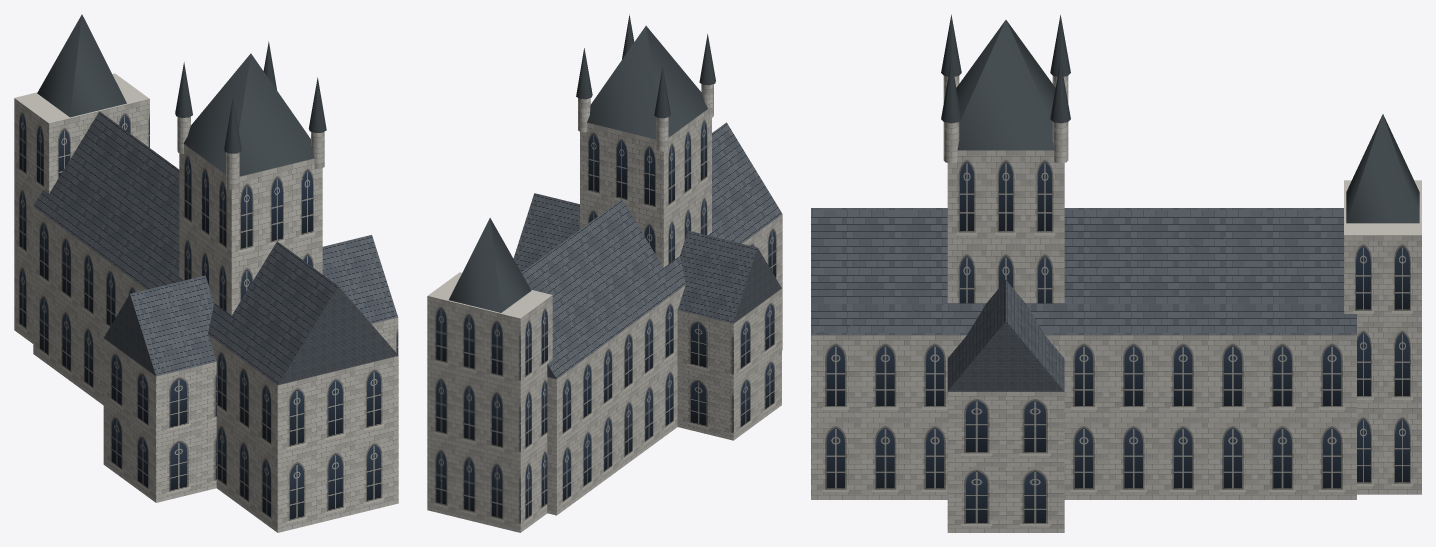
Rendered from niklaas.obj.
3 views of the same model, side by side, from view 1: azimuth 30°, elevation 25°; view 2: azimuth 150°, elevation 25°; view 3: azimuth 270°, elevation 25° (orthographic). The views are drawn at different scales.
Parts seen in each view (by area): view 1: part1, part2, part5, part3, part4, part15, part14, part16, part7, part9, part13, part8 (+1 smaller); view 2: part15, part2, part1, part5, part3, part4, part14, part16, part9, part7, part11, part6; view 3: part1, part2, part15, part5, part3, part14, part4, part16, part13, part11.
Boxes of the visible parts, box(x1,y1,x2,y2) form: part1: box(33, 206, 398, 532); part2: box(33, 111, 398, 384); part5: box(179, 144, 322, 315); part3: box(103, 317, 398, 502); part4: box(104, 235, 397, 376); part15: box(14, 73, 149, 343); part14: box(183, 53, 314, 176); part16: box(37, 14, 126, 117); part7: box(175, 62, 192, 117); part9: box(224, 98, 241, 153); part13: box(308, 77, 326, 132); part8: box(226, 152, 239, 189); part15: box(427, 272, 552, 532); part2: box(521, 122, 782, 378); part1: box(547, 214, 782, 515); part5: box(580, 109, 711, 267); part3: box(521, 272, 781, 440); part4: box(513, 193, 781, 323); part14: box(587, 26, 707, 139); part16: box(449, 218, 531, 312); part9: box(699, 34, 715, 85); part7: box(654, 67, 670, 118); part11: box(576, 48, 592, 99); part6: box(656, 117, 668, 151); part1: box(811, 335, 1356, 499); part2: box(811, 208, 1356, 334); part15: box(1344, 180, 1421, 494); part5: box(947, 150, 1064, 303); part3: box(947, 391, 1064, 532); part14: box(956, 20, 1055, 150); part4: box(947, 280, 1064, 391); part16: box(1346, 114, 1419, 223); part13: box(941, 61, 961, 123); part11: box(1050, 61, 1070, 123).
Bounding box in the file's own units: 24 × 38 × 47.
Materials: 4 (3 with a texture image).
